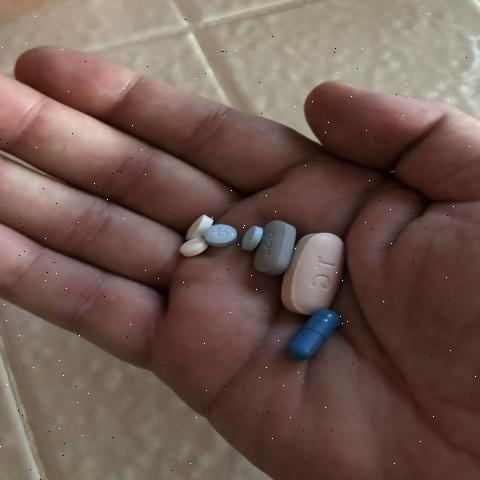Pill: (281, 230, 354, 317), (174, 214, 209, 246)
